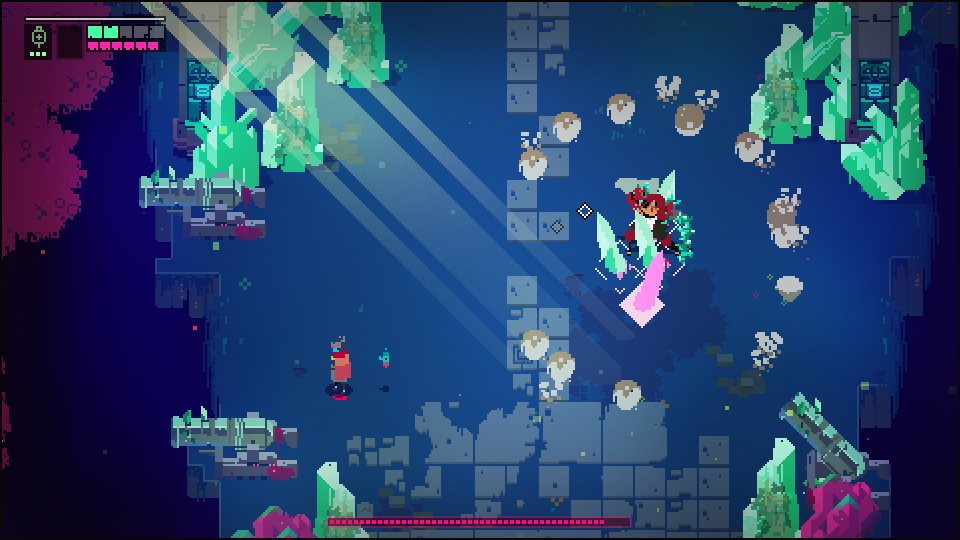hanged_crys: (635, 256, 668, 312), (595, 211, 622, 277)
hanged_man: (610, 170, 692, 267)
player: (324, 334, 351, 392)
